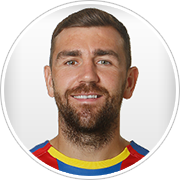smile: (70, 91, 104, 105)
